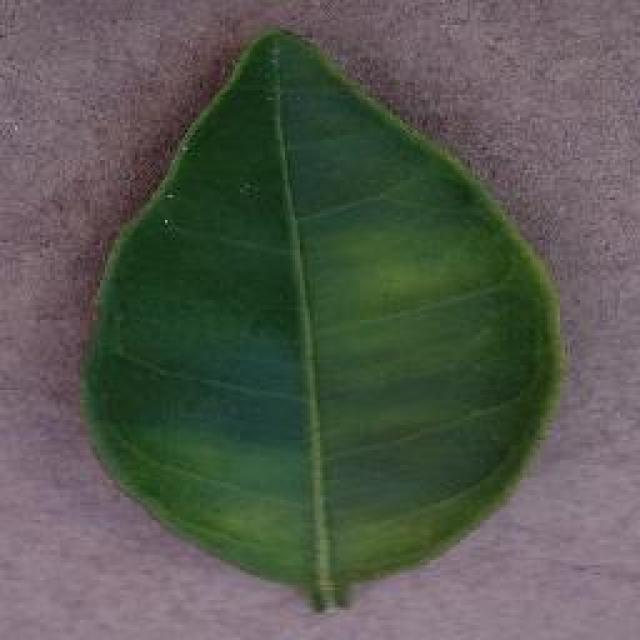Orange_Haunglongbing_Citrus_greening: (111, 144, 501, 541)
